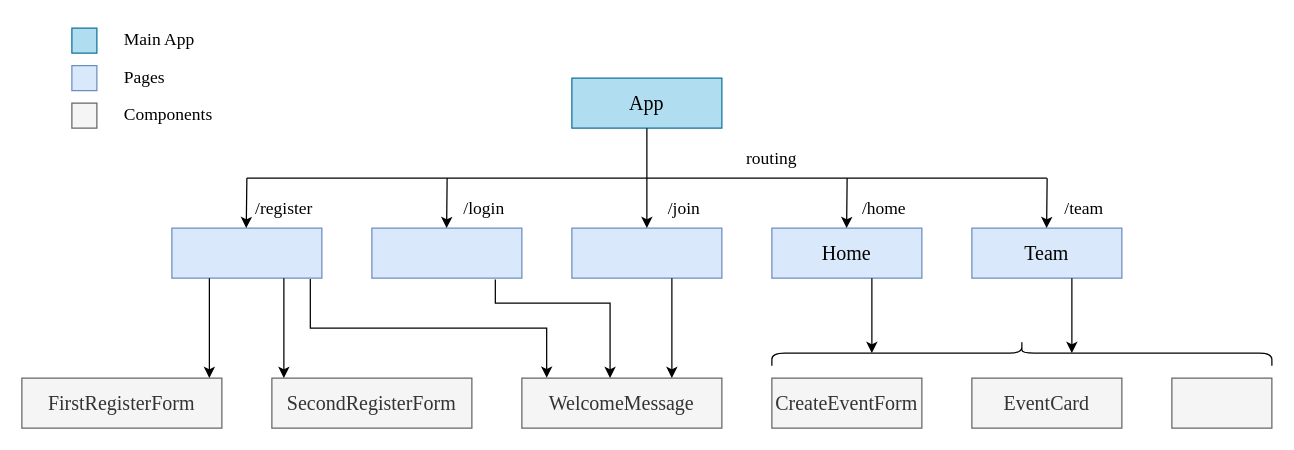
This 1294x450 diagram has some shape labels left out. The box of each missing label's shape, as (x1, y1, x2, y2) in pixels:
Join: (571, 227, 722, 278)
Login: (371, 227, 522, 278)
Navbar: (1171, 377, 1272, 428)
Register: (171, 227, 322, 278)
